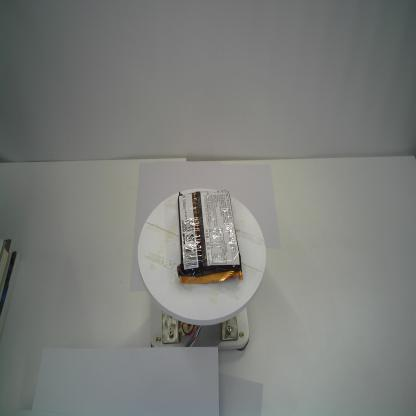Dessert: (177, 188, 244, 284)
